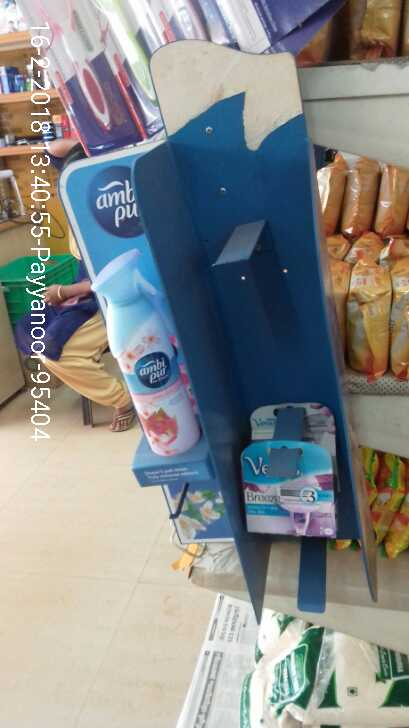beauty: (239, 437, 343, 544)
home: (86, 237, 202, 464)
